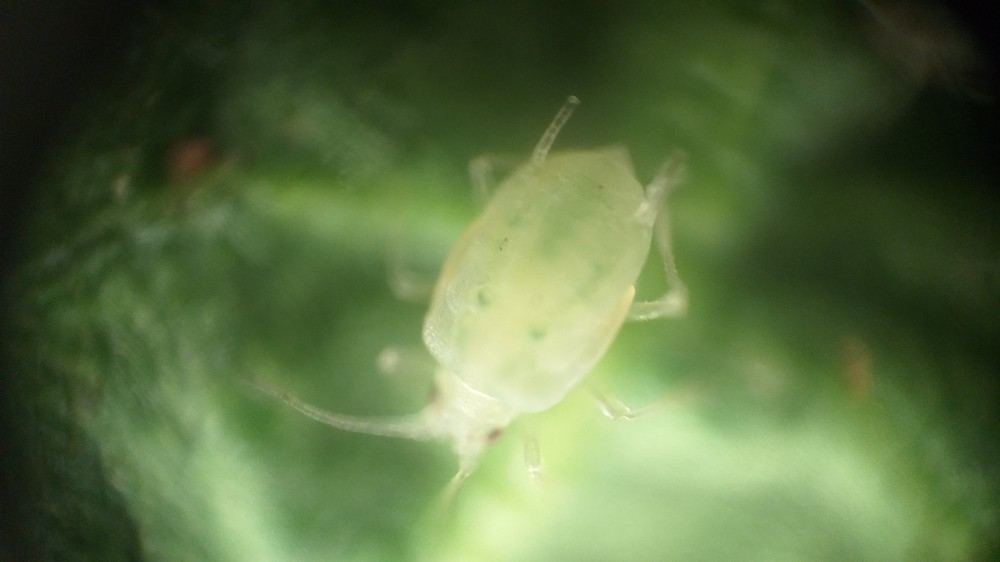Pulgon: (265, 84, 747, 555)
